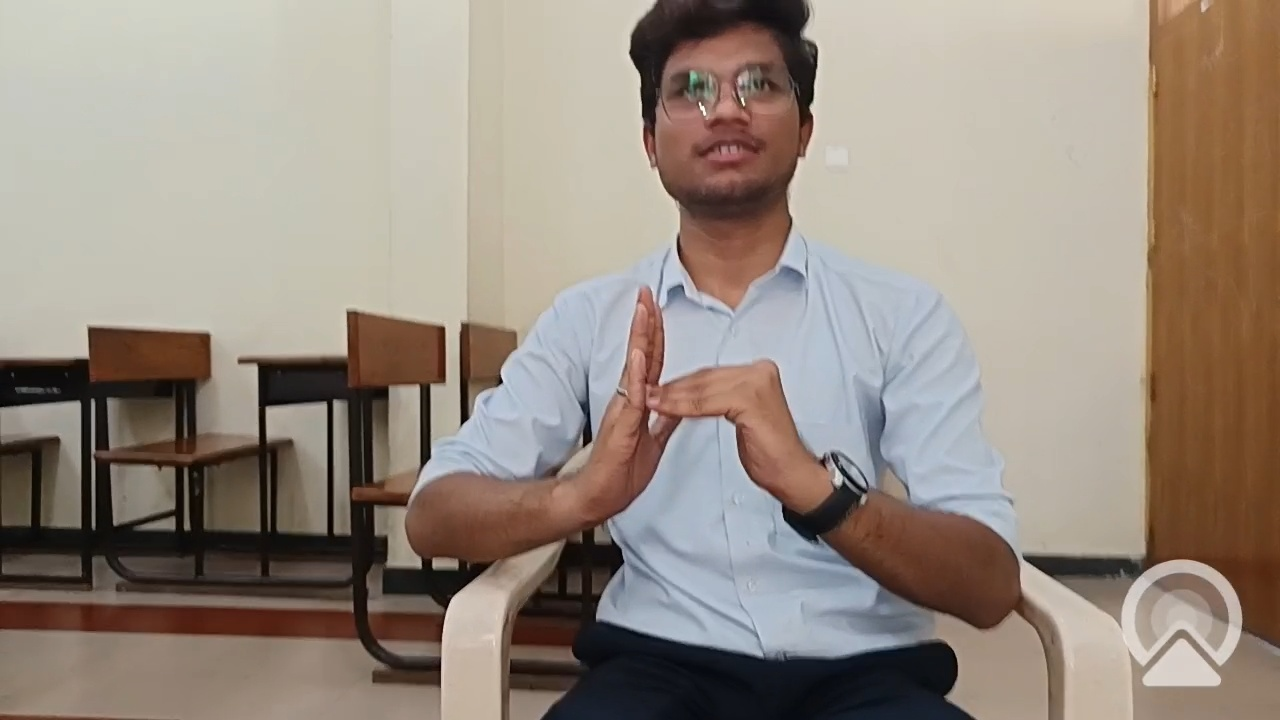Z: (516, 255, 867, 585)
